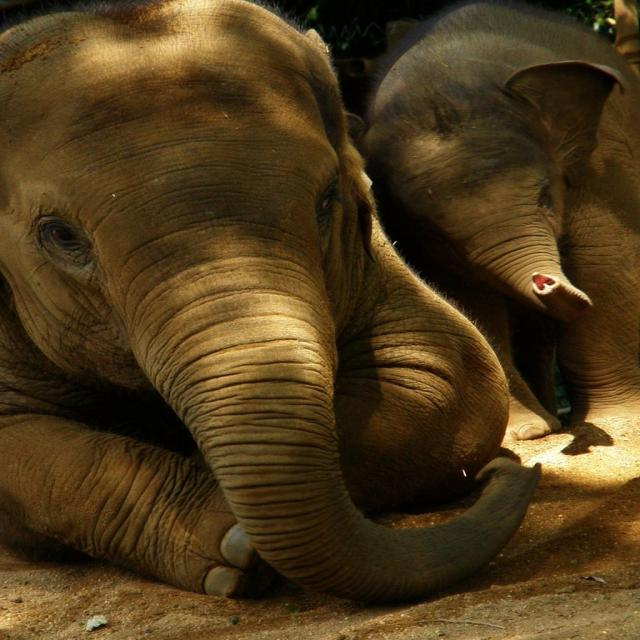elephant: (0, 0, 573, 616), (339, 0, 639, 439)
